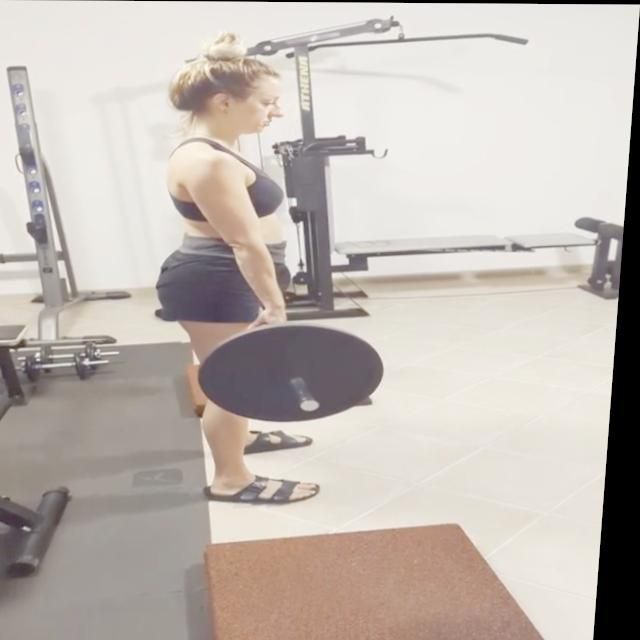barbell: (201, 320, 400, 426)
